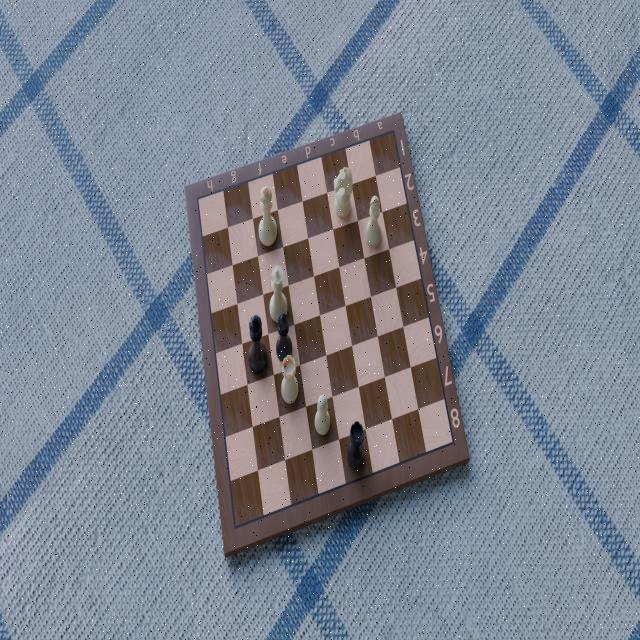black-bishop: (275, 311, 293, 361)
black-king: (246, 313, 269, 375)
black-rook: (347, 420, 367, 472)
white-bishop: (365, 194, 382, 249)
white-king: (257, 182, 278, 249)
white-knight: (333, 168, 355, 219)
white-pawn: (313, 396, 332, 436)
white-queen: (268, 263, 288, 322)
white-rook: (278, 352, 300, 408)
